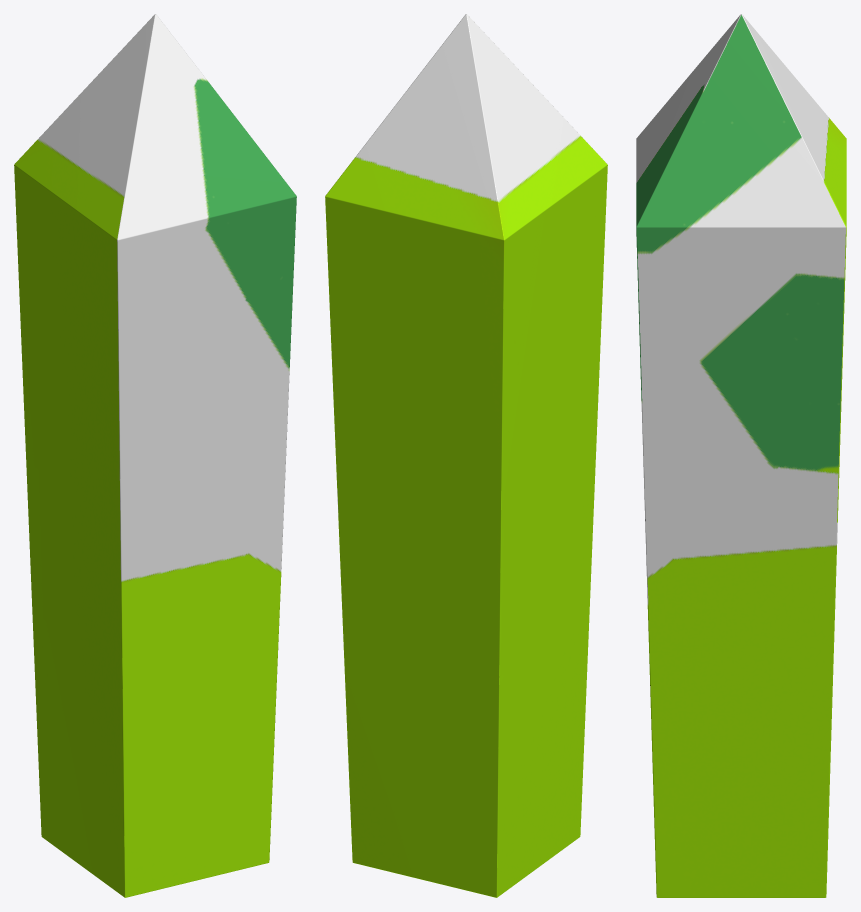
Rendered from Wooden_Post_1.fbx.
3 renders of one model, left to right at view 1: azimuth 30°, elevation 25°; view 2: azimuth 150°, elevation 25°; view 3: azimuth 270°, elevation 25°, orthographic.
Visible parts, largest first — view 1: Wooden_Post_1; view 2: Wooden_Post_1; view 3: Wooden_Post_1.
Part boxes in pixels (x1,y1,x2,y2): Wooden_Post_1: [14, 14, 296, 897]; Wooden_Post_1: [325, 14, 607, 897]; Wooden_Post_1: [636, 14, 846, 897].
Size of the model in its own units: 63.16 by 281 by 63.16.
